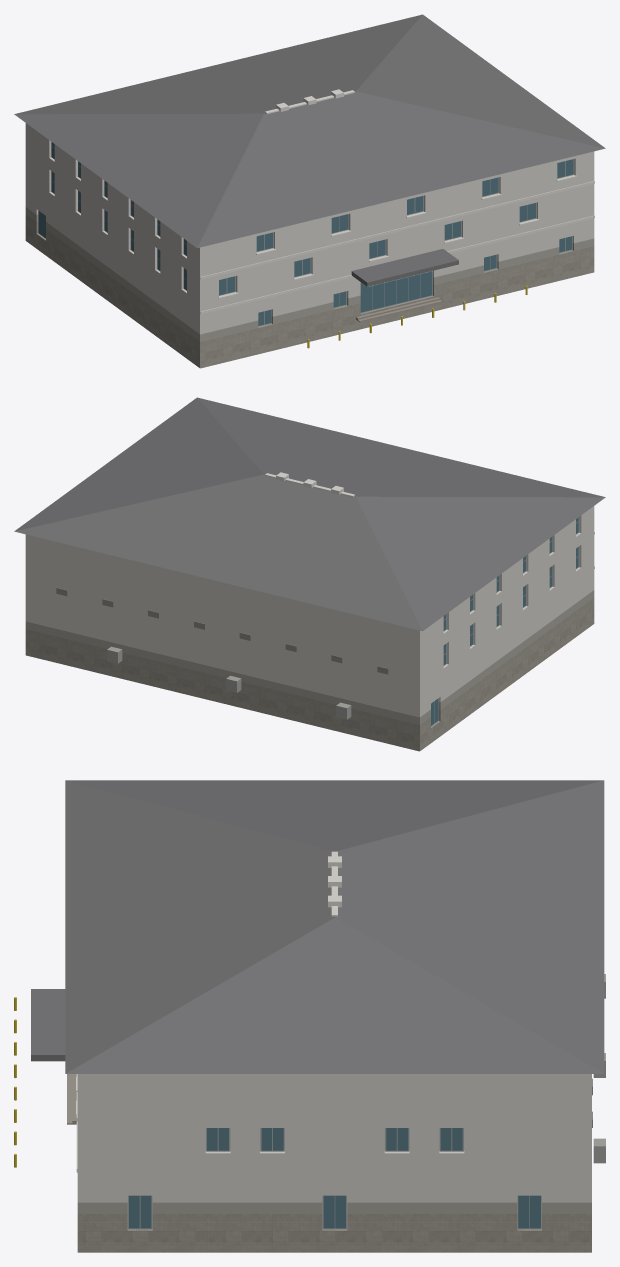
3 views of the same model, one above another, from view 1: azimuth 30°, elevation 25°; view 2: azimuth 150°, elevation 25°; view 3: azimuth 270°, elevation 25° (orthographic). The views are drawn at different scales.
Visible parts, largest first — view 1: hall60__roof-metal, hall60__panel-wall, hall60__plinth-wall, hall60__glass, hall60__granite-wall, hall60__trim, hall60__door-glass, hall60__frame, hall60__stone-step; view 2: hall60__roof-metal, hall60__panel-wall, hall60__plinth-wall, hall60__granite-wall, hall60__glass, hall60__ac, hall60__louver-gray, hall60__trim; view 3: hall60__roof-metal, hall60__panel-wall, hall60__plinth-wall, hall60__granite-wall, hall60__door-glass, hall60__glass, hall60__frame, hall60__trim.
Boxes of the visible parts, bbox=[...] form: hall60__roof-metal: bbox=[14, 14, 605, 286]; hall60__panel-wall: bbox=[25, 123, 594, 334]; hall60__plinth-wall: bbox=[25, 215, 594, 368]; hall60__glass: bbox=[51, 142, 573, 325]; hall60__granite-wall: bbox=[25, 207, 594, 341]; hall60__trim: bbox=[200, 89, 594, 314]; hall60__door-glass: bbox=[38, 211, 432, 312]; hall60__frame: bbox=[38, 142, 574, 326]; hall60__stone-step: bbox=[356, 297, 442, 321]; hall60__roof-metal: bbox=[14, 397, 605, 631]; hall60__panel-wall: bbox=[25, 506, 594, 717]; hall60__plinth-wall: bbox=[25, 598, 594, 751]; hall60__granite-wall: bbox=[25, 590, 594, 724]; hall60__glass: bbox=[443, 517, 578, 665]; hall60__ac: bbox=[107, 646, 351, 719]; hall60__louver-gray: bbox=[56, 588, 388, 674]; hall60__trim: bbox=[265, 472, 594, 568]; hall60__roof-metal: bbox=[31, 780, 604, 1073]; hall60__panel-wall: bbox=[77, 1074, 591, 1202]; hall60__plinth-wall: bbox=[77, 1214, 591, 1252]; hall60__granite-wall: bbox=[77, 1202, 591, 1213]; hall60__door-glass: bbox=[129, 1195, 540, 1228]; hall60__glass: bbox=[207, 1128, 462, 1150]; hall60__frame: bbox=[128, 1128, 541, 1229]; hall60__trim: bbox=[76, 851, 341, 1172].
Bounding box in the file's own units: 44.6 × 16.44 × 38.
14 materials, 1 textured.
